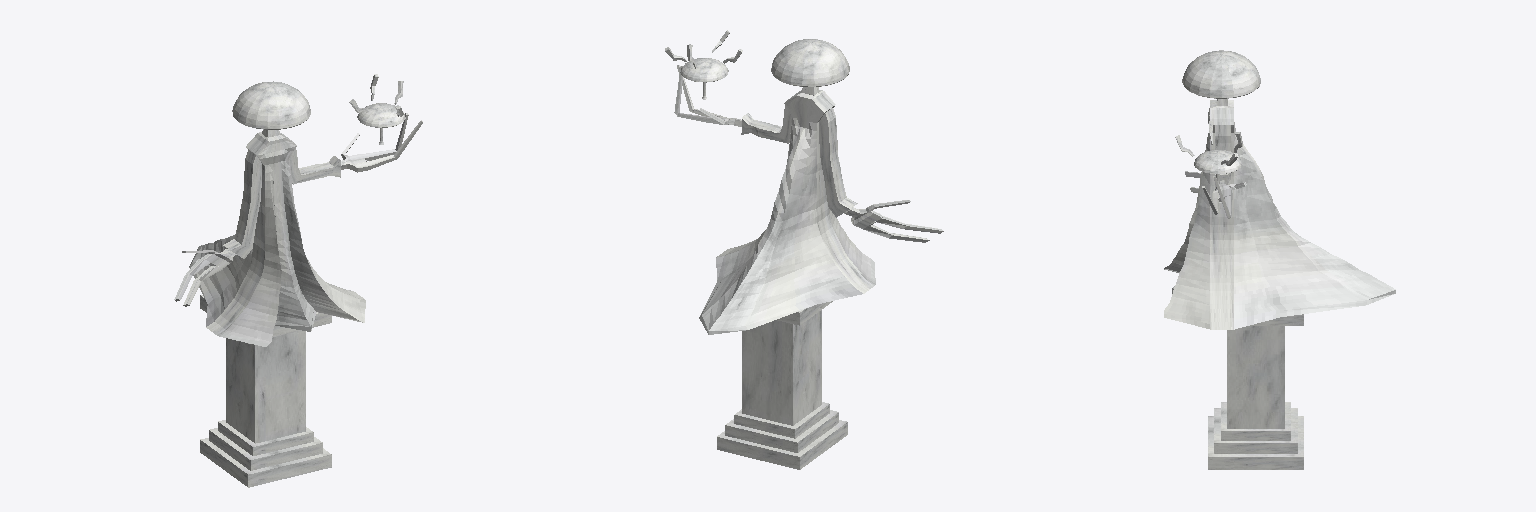
The picture shows the model from 3 angles: view 1: azimuth 30°, elevation 25°; view 2: azimuth 150°, elevation 25°; view 3: azimuth 270°, elevation 25°; orthographic projection.
Visible parts, largest first — view 1: MushroomGod_Textured:polySurface12, pCube8, MushroomGod_Textured:pSphere1, MushroomGod_Textured:pCube3 MushroomGod_Textured:polySurface16, MushroomGod_Textured:polySurface13 MushroomGod_Textured:pCube4, MushroomGod_Textured:pCube4 MushroomGod_Textured:polySurface14, MushroomGod_Textured:polySurface15 MushroomGod_Textured:pCube3, MushroomGod_Textured:Mushroom:pCylinder2; view 2: MushroomGod_Textured:polySurface12, pCube8, MushroomGod_Textured:pSphere1, MushroomGod_Textured:pCube3 MushroomGod_Textured:polySurface16, MushroomGod_Textured:pCube4 MushroomGod_Textured:polySurface14, MushroomGod_Textured:polySurface15 MushroomGod_Textured:pCube3, MushroomGod_Textured:Mushroom:pCylinder2, MushroomGod_Textured:polySurface13 MushroomGod_Textured:pCube4; view 3: MushroomGod_Textured:polySurface12, pCube8, MushroomGod_Textured:pSphere1, MushroomGod_Textured:Mushroom:pCylinder2, MushroomGod_Textured:polySurface13 MushroomGod_Textured:pCube4.
Part boxes in pixels (x1,y1,x2,y2): MushroomGod_Textured:polySurface12: (189, 130, 365, 346); pCube8: (200, 295, 331, 487); MushroomGod_Textured:pSphere1: (232, 81, 310, 129); MushroomGod_Textured:pCube3 MushroomGod_Textured:polySurface16: (223, 149, 261, 258); MushroomGod_Textured:polySurface13 MushroomGod_Textured:pCube4: (341, 113, 422, 172); MushroomGod_Textured:pCube4 MushroomGod_Textured:polySurface14: (174, 249, 236, 306); MushroomGod_Textured:polySurface15 MushroomGod_Textured:pCube3: (289, 149, 340, 184); MushroomGod_Textured:Mushroom:pCylinder2: (357, 103, 405, 144); MushroomGod_Textured:polySurface12: (699, 87, 875, 334); pCube8: (717, 301, 847, 469); MushroomGod_Textured:pSphere1: (771, 39, 849, 86); MushroomGod_Textured:pCube3 MushroomGod_Textured:polySurface16: (819, 108, 857, 217); MushroomGod_Textured:pCube4 MushroomGod_Textured:polySurface14: (844, 200, 943, 242); MushroomGod_Textured:polySurface15 MushroomGod_Textured:pCube3: (741, 106, 792, 143); MushroomGod_Textured:Mushroom:pCylinder2: (680, 58, 728, 99); MushroomGod_Textured:polySurface13 MushroomGod_Textured:pCube4: (674, 65, 741, 126); MushroomGod_Textured:polySurface12: (1164, 99, 1395, 329); pCube8: (1208, 314, 1303, 469); MushroomGod_Textured:pSphere1: (1182, 50, 1260, 98); MushroomGod_Textured:Mushroom:pCylinder2: (1194, 150, 1241, 191); MushroomGod_Textured:polySurface13 MushroomGod_Textured:pCube4: (1202, 176, 1246, 218).
Size of the model in its own units: 12.42 by 17.91 by 9.71.
2 materials, 1 textured.